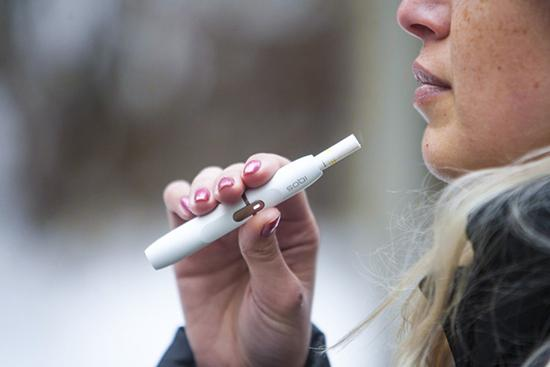iqos: (145, 134, 360, 269)
